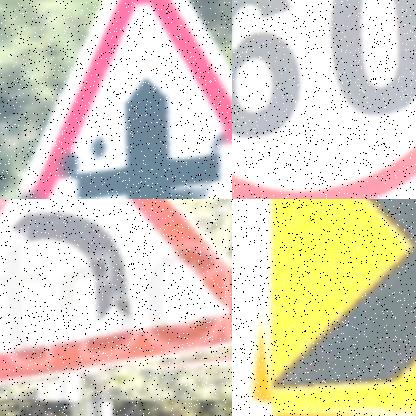Cross Roads: (19, 0, 232, 199)
Sharp Right Turn: (273, 199, 416, 413)
